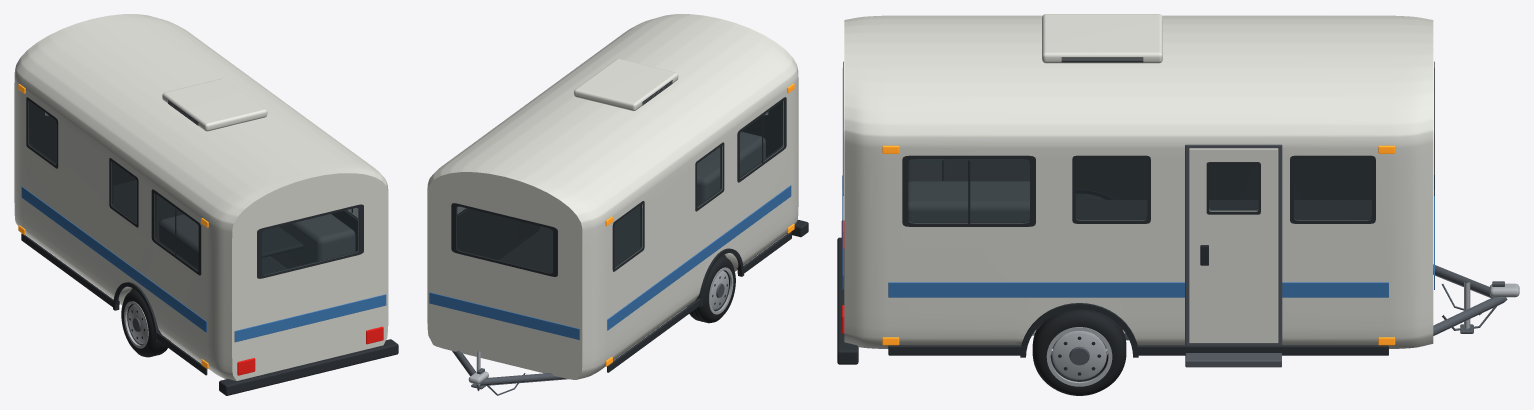
The model's file is travel-trailer.glb.
The picture shows the model from 3 angles, left to right: view 1: azimuth 30°, elevation 25°; view 2: azimuth 150°, elevation 25°; view 3: azimuth 270°, elevation 25°; orthographic projection. The views are drawn at different scales.
Visible parts, largest first — view 1: Body geometry, Running wheel geometry; view 2: Body geometry, Running wheel geometry; view 3: Body geometry, Running wheel geometry.001.
Boxes of the visible parts, <box> form: Body geometry: <box>14,14,398,395</box>; Running wheel geometry: <box>121,289,169,357</box>; Body geometry: <box>427,14,808,395</box>; Running wheel geometry: <box>687,256,735,323</box>; Body geometry: <box>837,14,1519,367</box>; Running wheel geometry.001: <box>1032,309,1126,395</box>.
Bounding box in the file's own units: 1.77 × 2.04 × 4.08.
